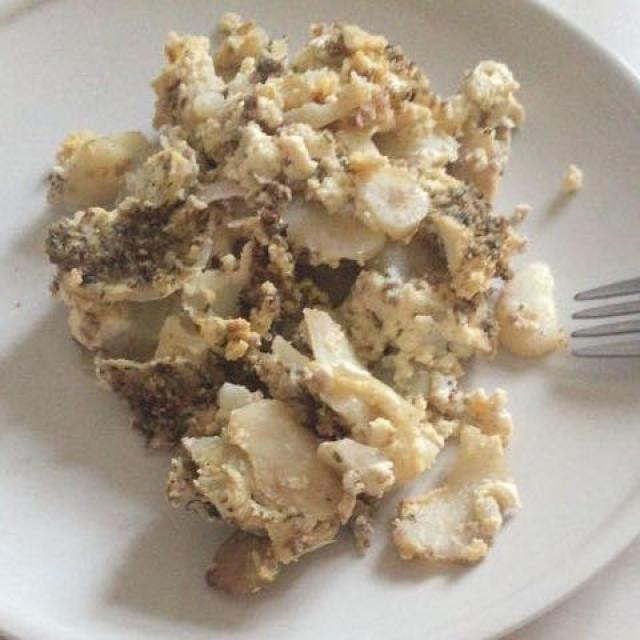egg: (65, 68, 559, 615)
